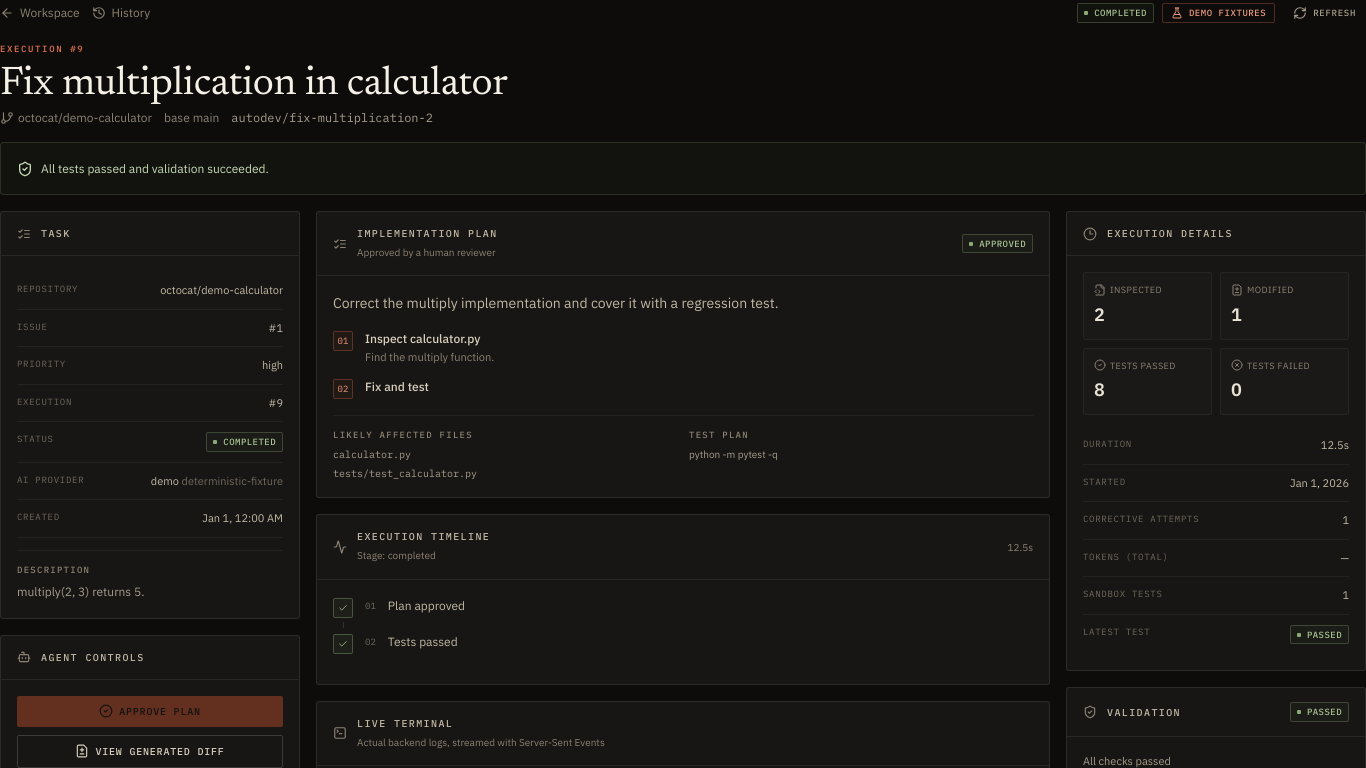
Test: Workspace › opens the generated diff from the real execution API
Expected: the heading "Fix multiplication in calculator" is shown, [0, 64, 508, 104]
Click the button "View generated diff": {"x": 150, "y": 751} [17, 735, 283, 767]
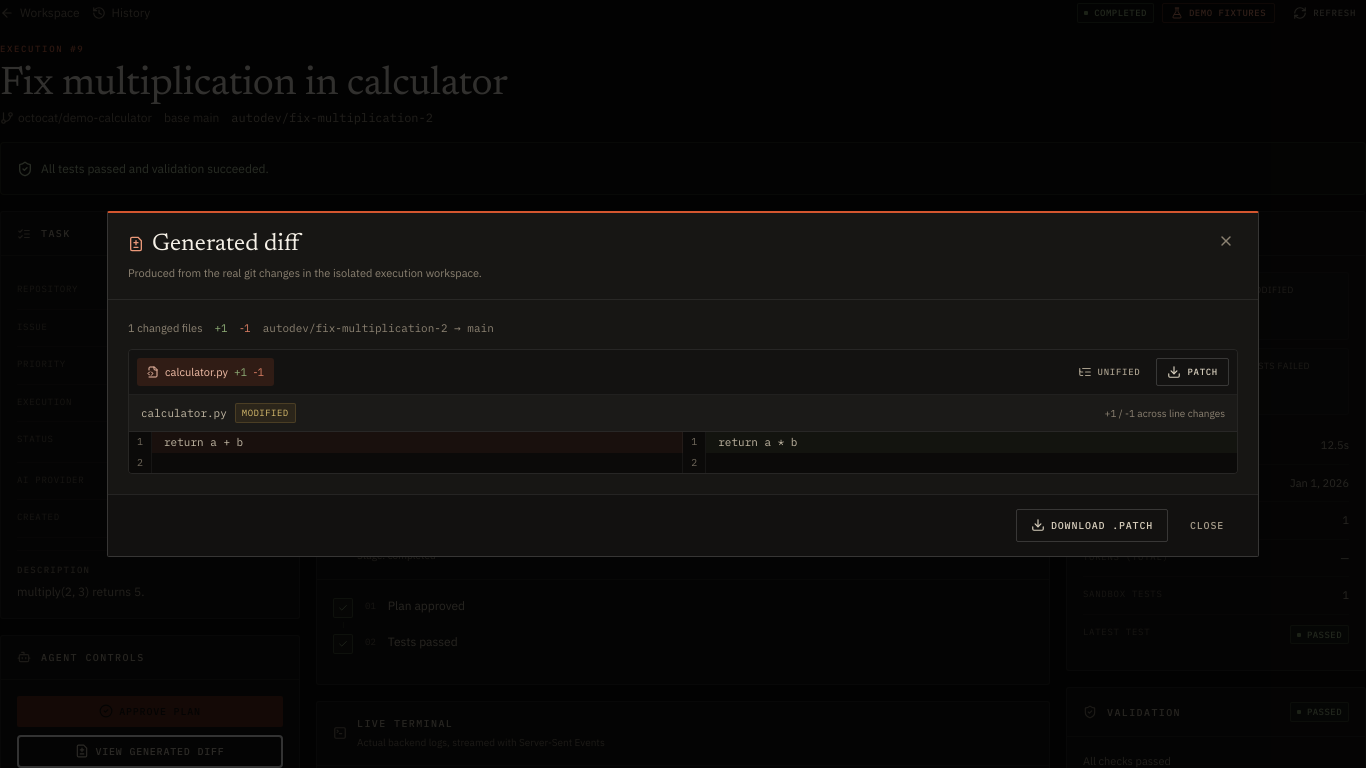
Result: the text "Generated diff" is shown at [128, 229, 300, 259]
Result: the text "return a * b" is shown at [706, 432, 1237, 453]
